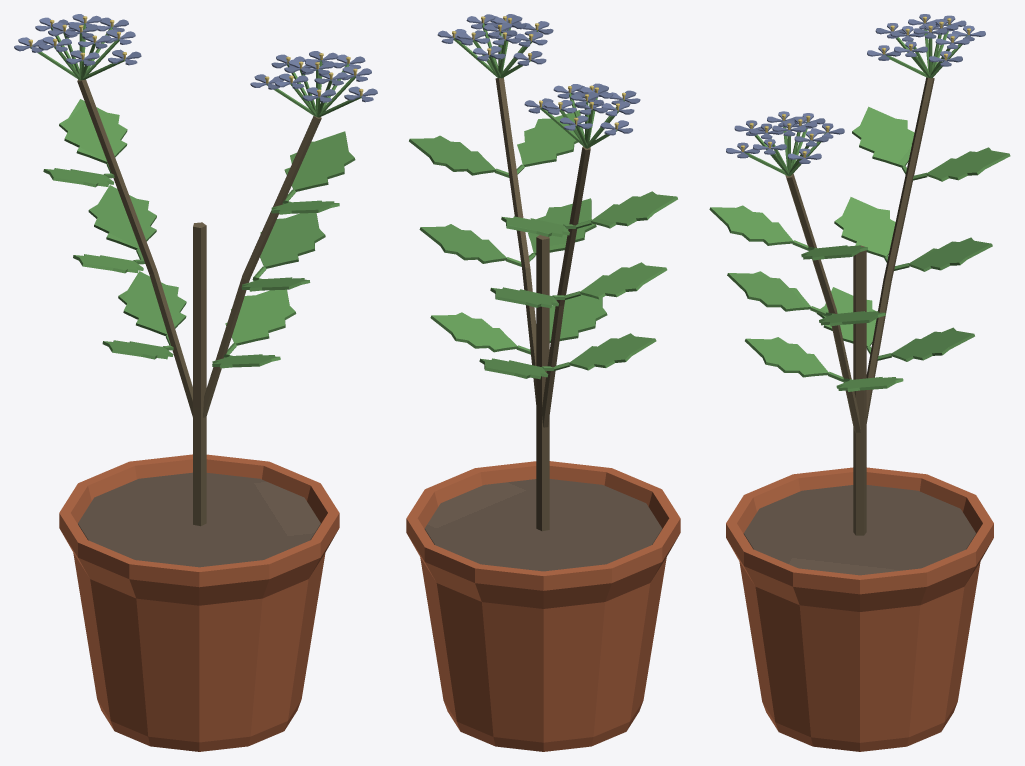
File: hydrangea.glb
3 renders of one model, left to right at view 1: azimuth 30°, elevation 25°; view 2: azimuth 150°, elevation 25°; view 3: azimuth 270°, elevation 25°, orthographic. The views are drawn at different scales.
Parts seen in each view (by area): view 1: hydrangea/review-terra-vessel, hydrangea/review-rooted-soil, hydrangea/petiole-001, hydrangea/stem-092, hydrangea/stem-002, hydrangea/leaf-006, hydrangea/leaf-010, hydrangea/leaf-094, hydrangea/leaf-014, hydrangea/leaf-098, hydrangea/leaf-102, hydrangea/leaf-104 (+5 smaller); view 2: hydrangea/review-terra-vessel, hydrangea/review-rooted-soil, hydrangea/petiole-001, hydrangea/stem-092, hydrangea/stem-002, hydrangea/leaf-012, hydrangea/leaf-010, hydrangea/leaf-014, hydrangea/leaf-006, hydrangea/leaf-004, hydrangea/leaf-096, hydrangea/leaf-100 (+5 smaller); view 3: hydrangea/review-terra-vessel, hydrangea/review-rooted-soil, hydrangea/petiole-001, hydrangea/stem-092, hydrangea/leaf-104, hydrangea/leaf-100, hydrangea/stem-002, hydrangea/leaf-012, hydrangea/leaf-008, hydrangea/leaf-004, hydrangea/leaf-102, hydrangea/leaf-094 (+5 smaller).
Boxes of the visible parts, <box> form: hydrangea/review-terra-vessel: <box>59,454,339,751</box>; hydrangea/review-rooted-soil: <box>78,472,320,567</box>; hydrangea/petiole-001: <box>193,222,206,526</box>; hydrangea/stem-092: <box>77,79,192,416</box>; hydrangea/stem-002: <box>203,116,321,417</box>; hydrangea/leaf-006: <box>225,289,296,345</box>; hydrangea/leaf-010: <box>260,213,325,268</box>; hydrangea/leaf-094: <box>118,271,186,336</box>; hydrangea/leaf-014: <box>284,131,355,191</box>; hydrangea/leaf-098: <box>88,185,156,249</box>; hydrangea/leaf-102: <box>59,99,127,163</box>; hydrangea/leaf-104: <box>43,168,114,187</box>; hydrangea/review-terra-vessel: <box>406,461,680,751</box>; hydrangea/review-rooted-soil: <box>424,479,662,571</box>; hydrangea/petiole-001: <box>536,235,549,531</box>; hydrangea/stem-092: <box>541,146,590,427</box>; hydrangea/stem-002: <box>495,77,536,404</box>; hydrangea/leaf-012: <box>517,110,580,166</box>; hydrangea/leaf-010: <box>419,224,506,263</box>; hydrangea/leaf-014: <box>409,135,495,175</box>; hydrangea/leaf-006: <box>430,312,517,352</box>; hydrangea/leaf-004: <box>549,294,607,342</box>; hydrangea/leaf-096: <box>569,333,656,370</box>; hydrangea/leaf-100: <box>580,262,667,299</box>; hydrangea/review-terra-vessel: <box>726,467,993,751</box>; hydrangea/review-rooted-soil: <box>743,485,976,575</box>; hydrangea/petiole-001: <box>853,245,866,535</box>; hydrangea/stem-092: <box>866,77,934,423</box>; hydrangea/leaf-104: <box>852,106,914,167</box>; hydrangea/leaf-100: <box>834,197,895,257</box>; hydrangea/stem-002: <box>785,173,860,433</box>; hydrangea/leaf-012: <box>709,205,793,245</box>; hydrangea/leaf-008: <box>727,271,810,311</box>; hydrangea/leaf-004: <box>745,337,828,377</box>; hydrangea/leaf-102: <box>926,147,1010,181</box>; hydrangea/leaf-094: <box>891,327,974,361</box>.
Bounding box in the file's own units: 0.3161 × 0.7205 × 0.3033.
6 materials, 6 textured.
